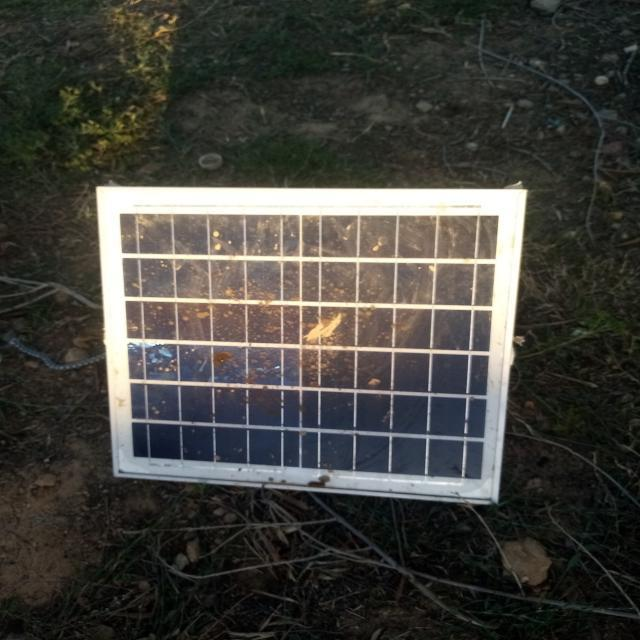faulty: (101, 191, 519, 502)
